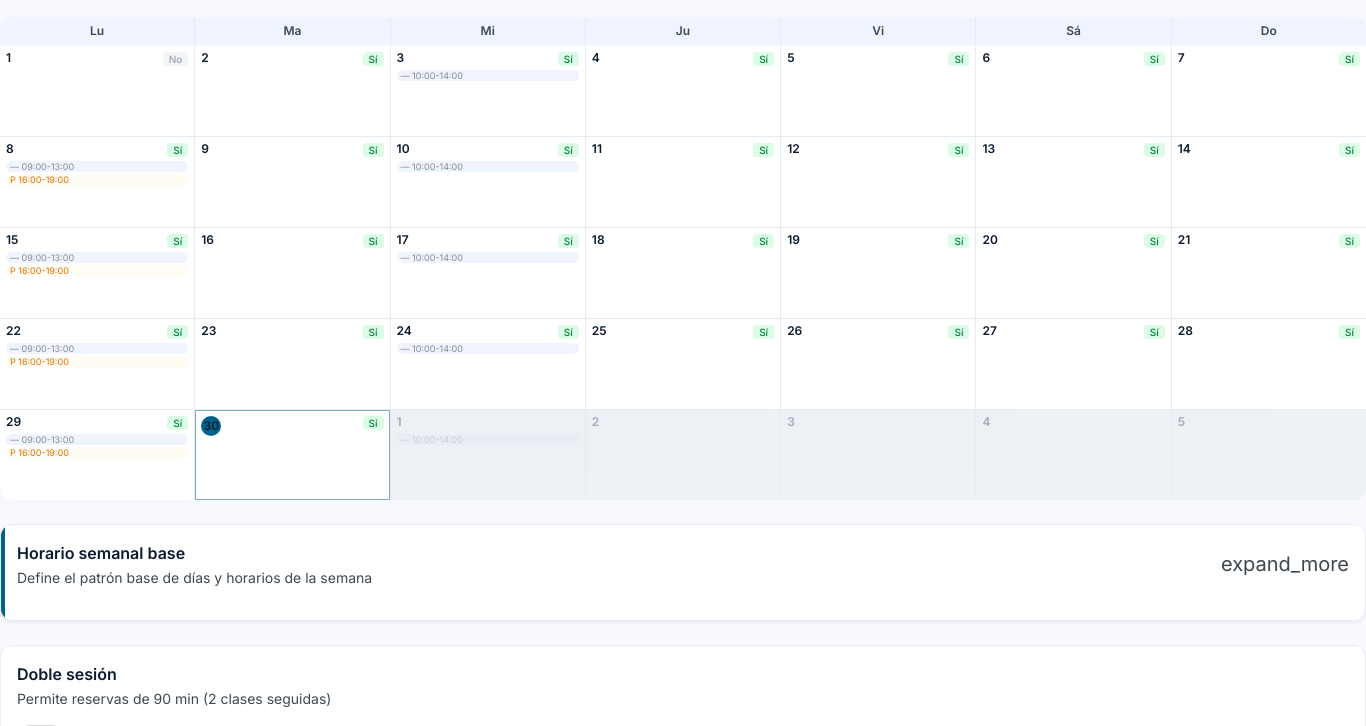
TeacherSchedule › shows error when start >= end on save
Click the heading "Horario semanal base". click: click(101, 553)
box: [17, 543, 185, 563]
(page scrolled)
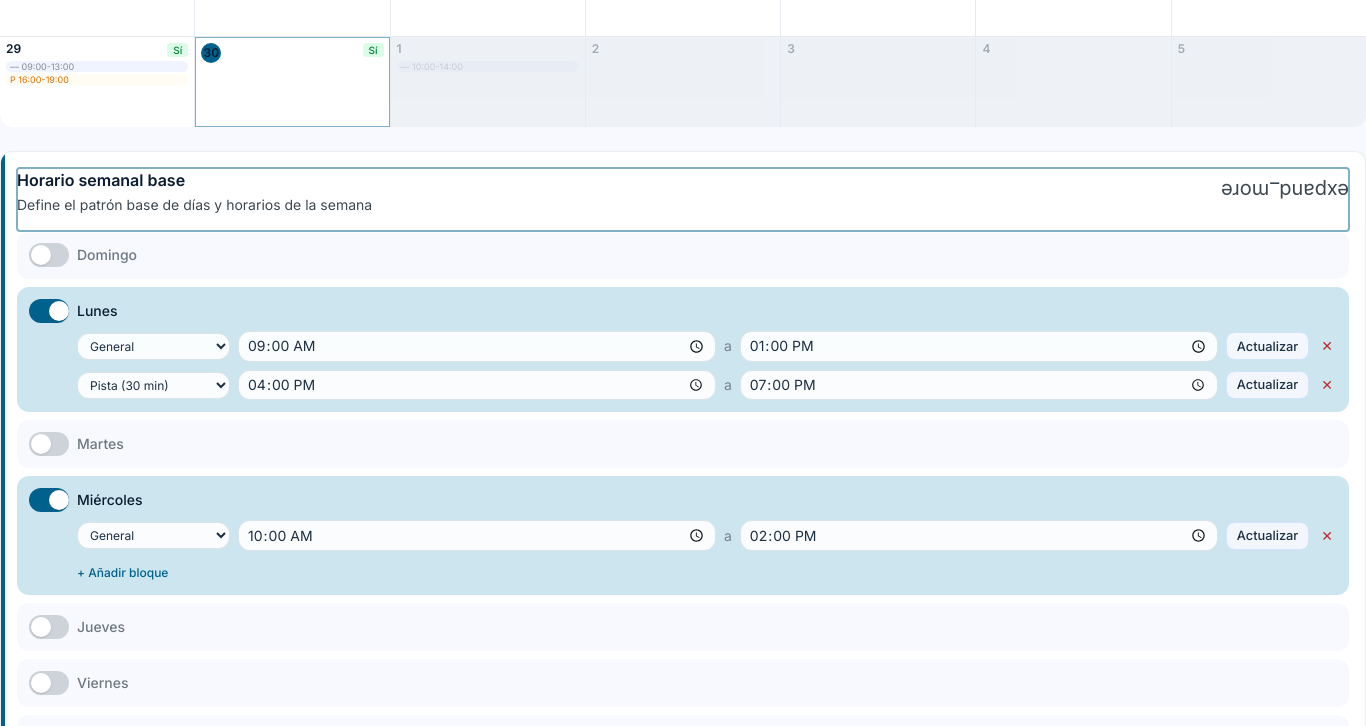
Check: the text "Lunes" is shown, box [77, 302, 118, 319]
Replace the text in the 1st time field showing "09:00" with "14:00". click: (477, 346)
box: [238, 331, 716, 362]
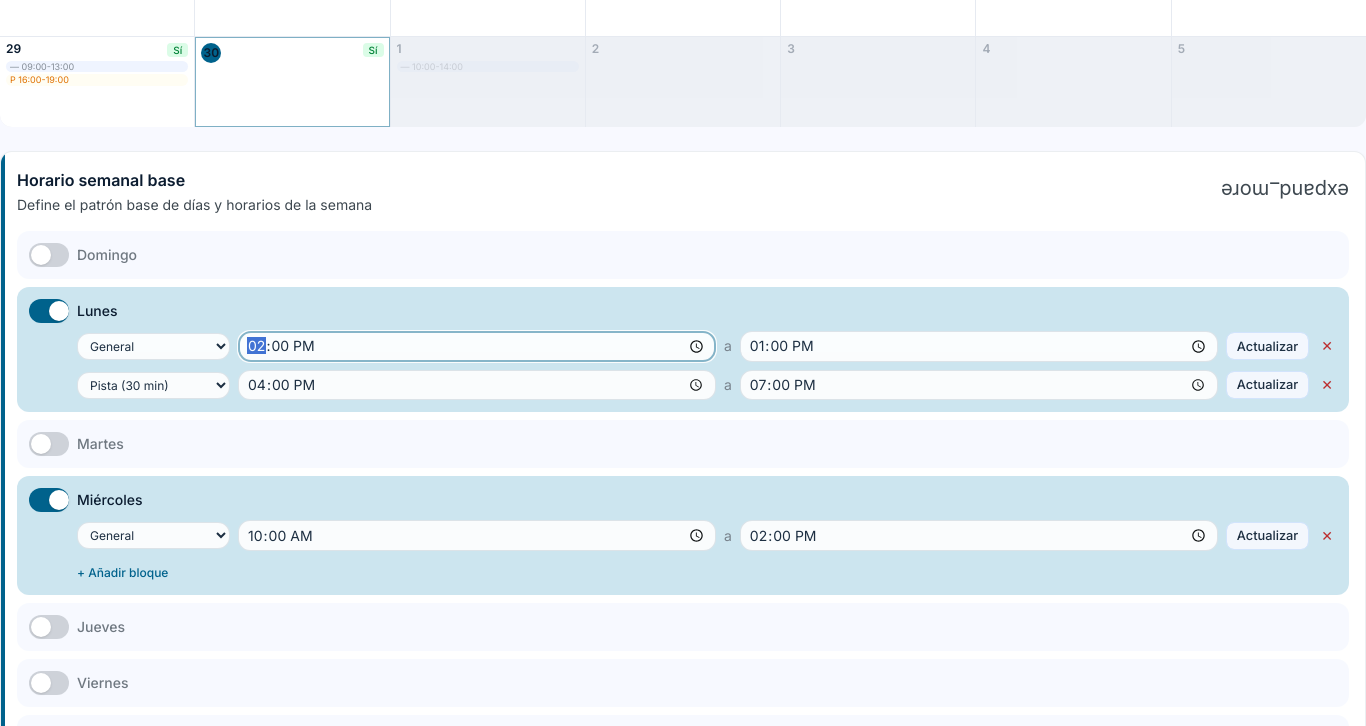
Click the 1st button "Actualizar". click: click(1268, 346)
box: [1226, 332, 1309, 360]
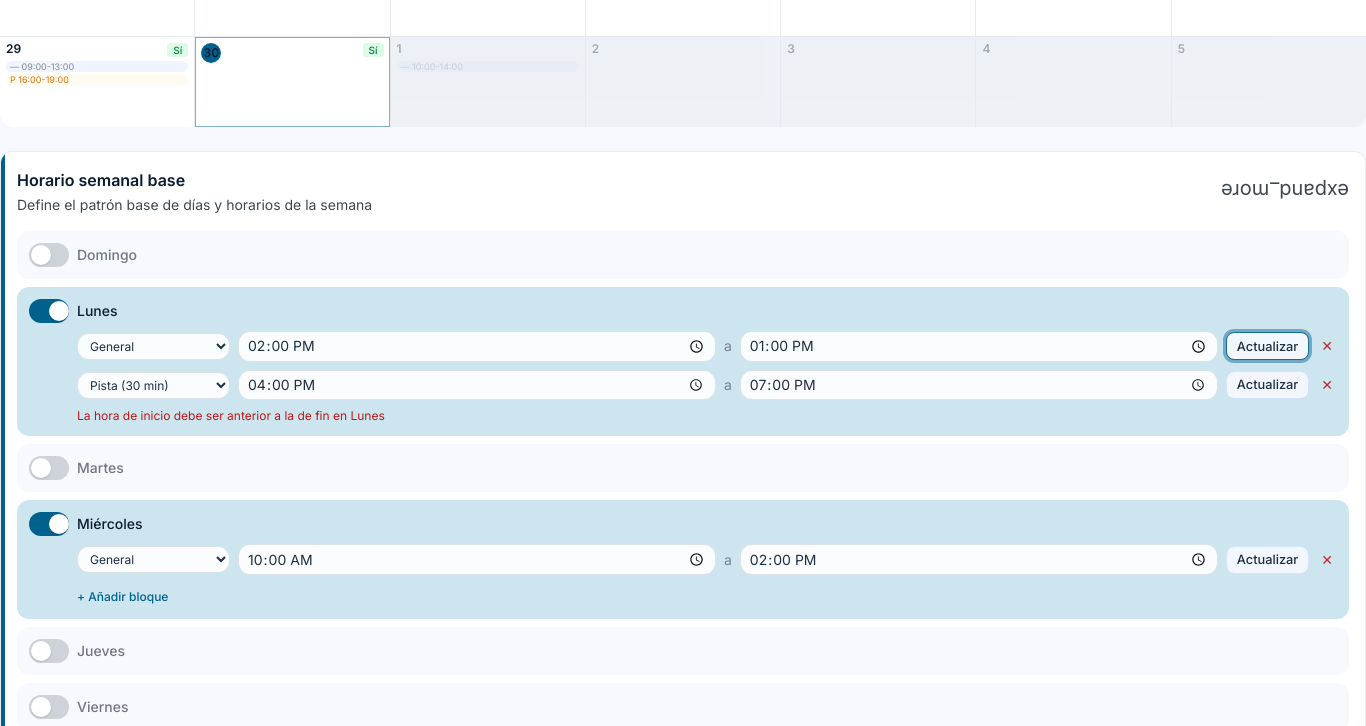
Check: the text "La hora de inicio debe ser anterior a la de fin en Lunes" is shown, box [77, 408, 385, 423]
